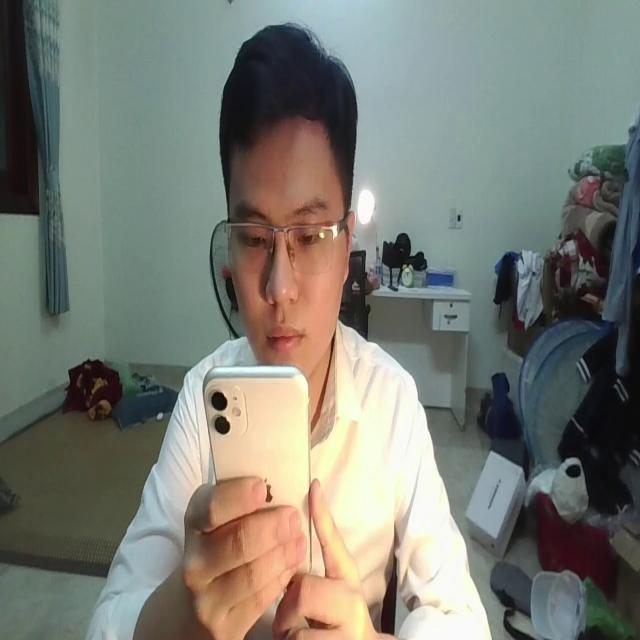phone: (197, 354, 313, 596)
student: (64, 18, 490, 640)
